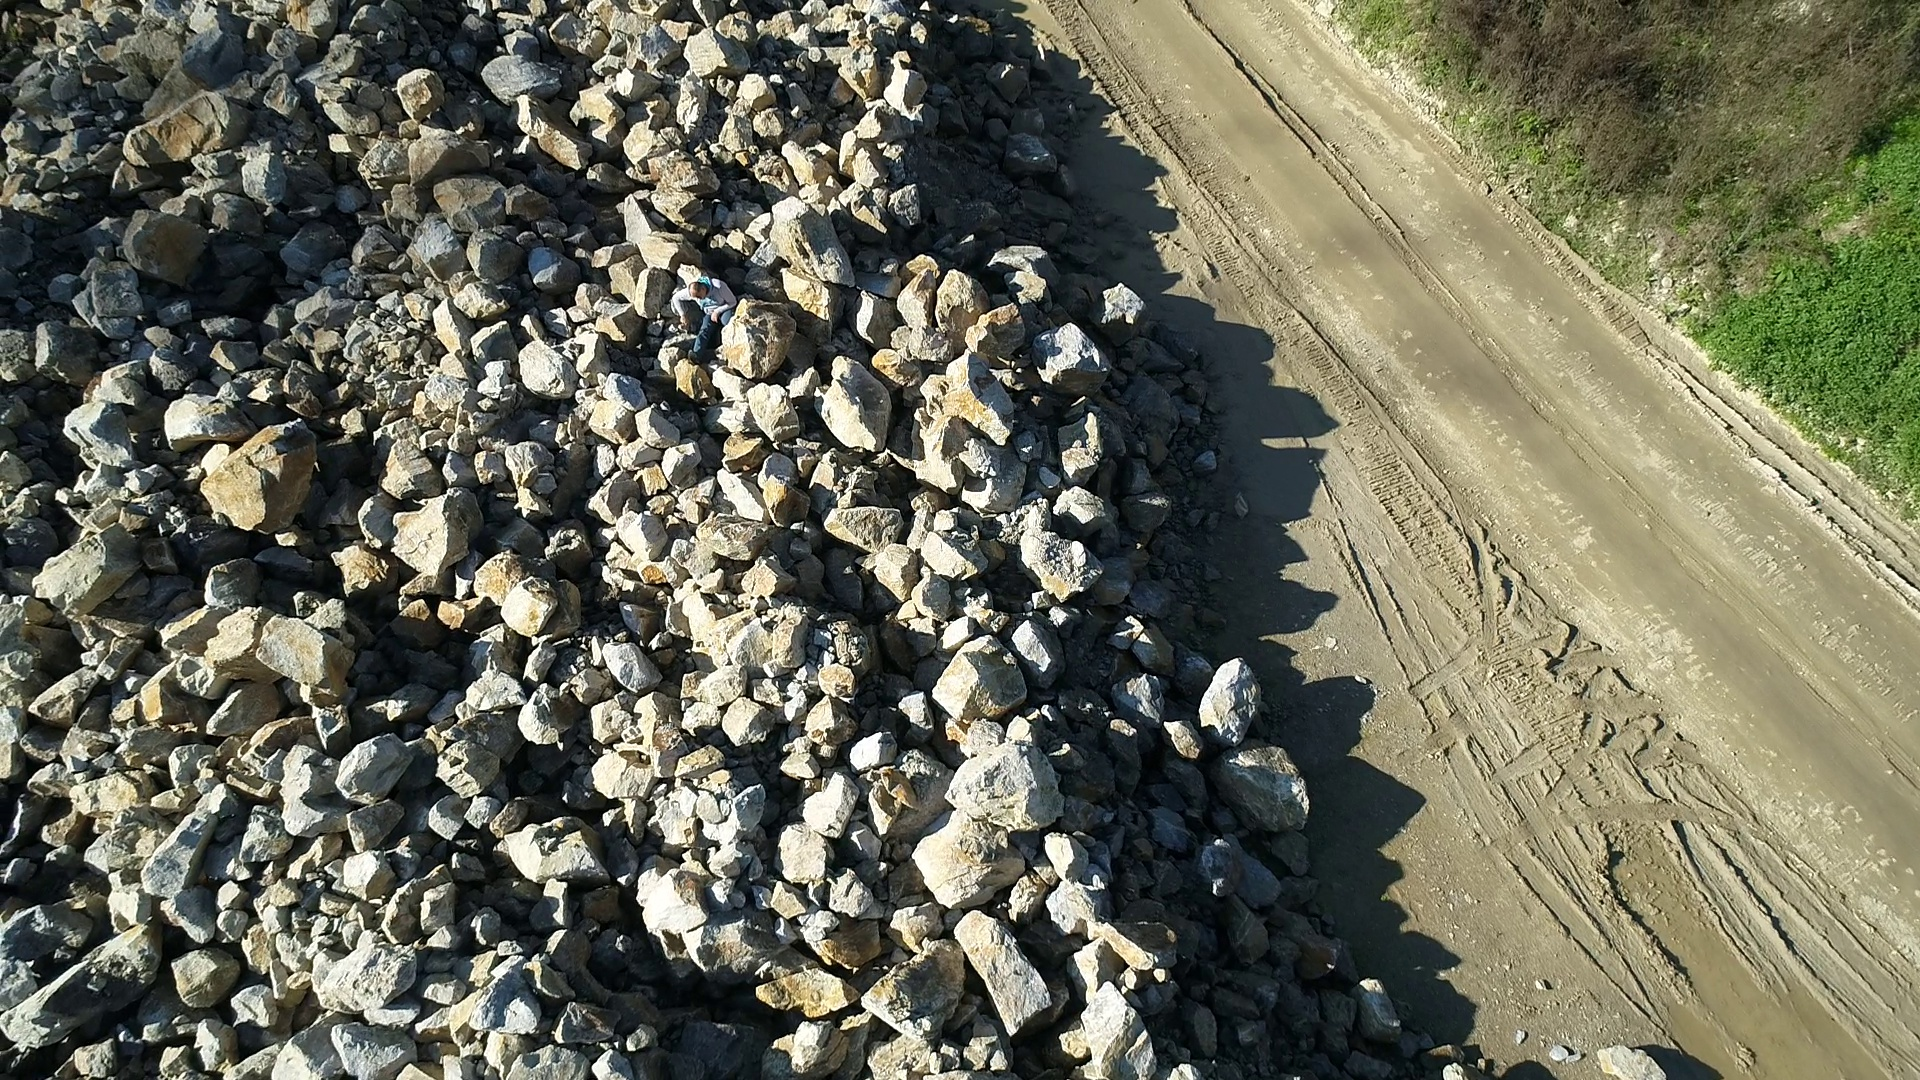person: (670, 276, 737, 360)
